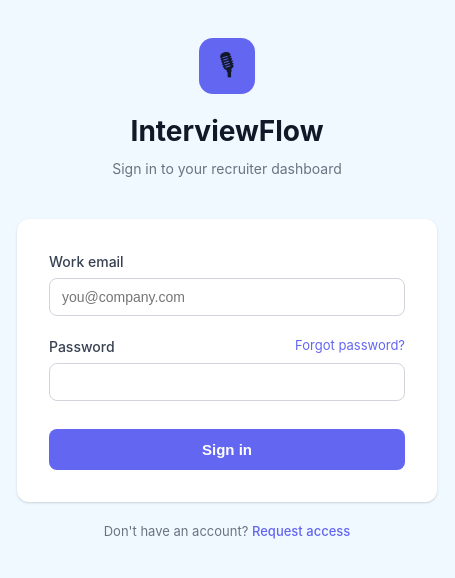
it: LoginPage › shows validation error for invalid email format
Type "not-an-email" into the field labelled "Work email" at (227, 297), box [49,278,405,316]
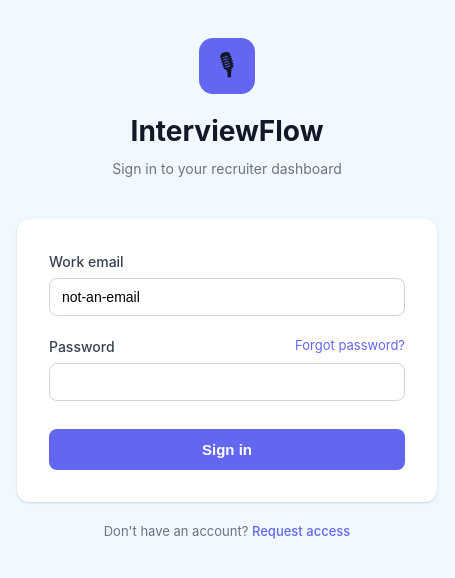
Click the button "Sign in" at (227, 450), box [49,429,405,470]
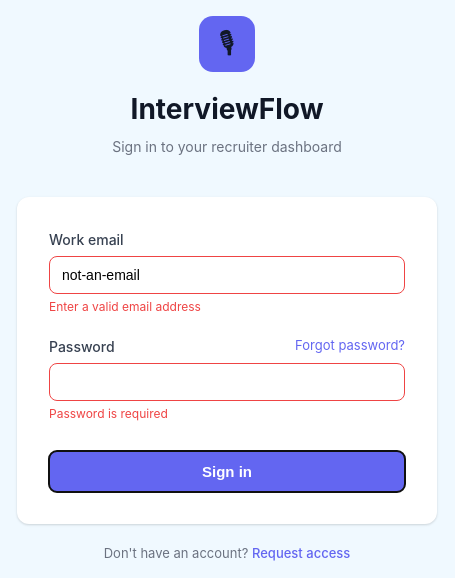
Expected: the text "Enter a valid email address" is shown, [49,299,201,314]
